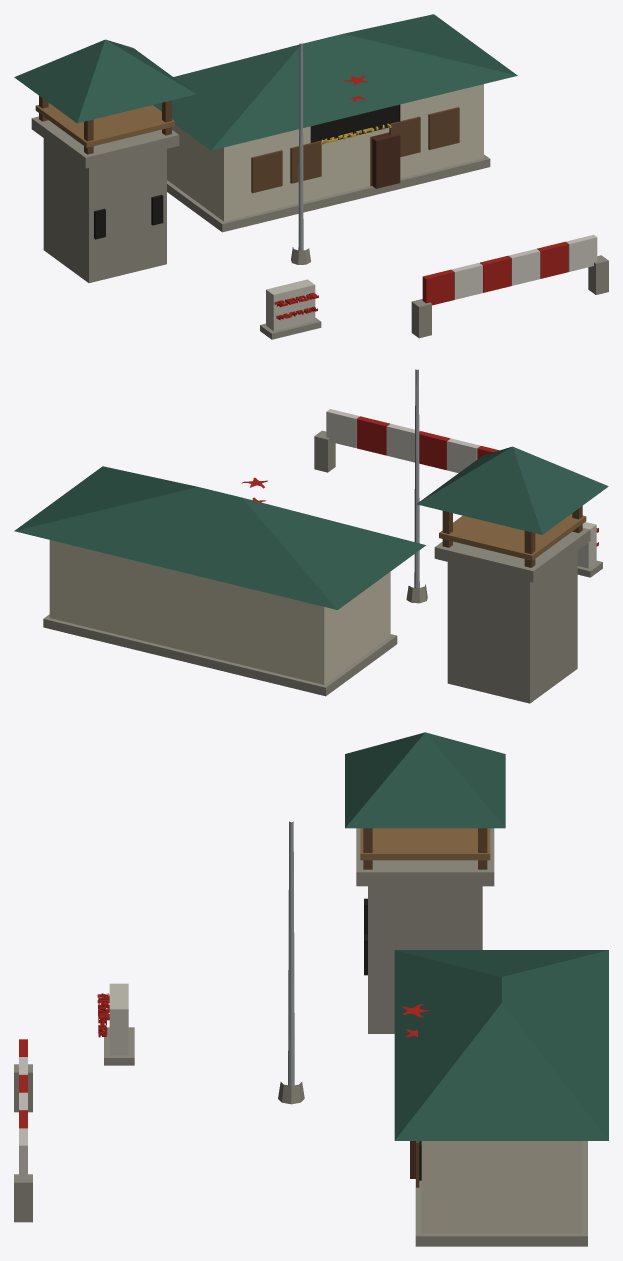
The model's file is post-buildings.glb.
3 views of the same model, one above another, from view 1: azimuth 30°, elevation 25°; view 2: azimuth 150°, elevation 25°; view 3: azimuth 270°, elevation 25° (orthographic). The views are drawn at different scales.
Parts seen in each view (by area): view 1: PostBuildings; view 2: PostBuildings; view 3: PostBuildings.
Boxes of the visible parts, left/top/right/bottom form: PostBuildings: left=14, top=14, right=608, bottom=339; PostBuildings: left=14, top=369, right=608, bottom=703; PostBuildings: left=14, top=732, right=608, bottom=1246.
Size of the model in its own units: 17.7 by 8 by 15.55.
